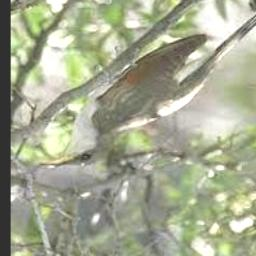Cuckoo: (42, 14, 256, 168)
